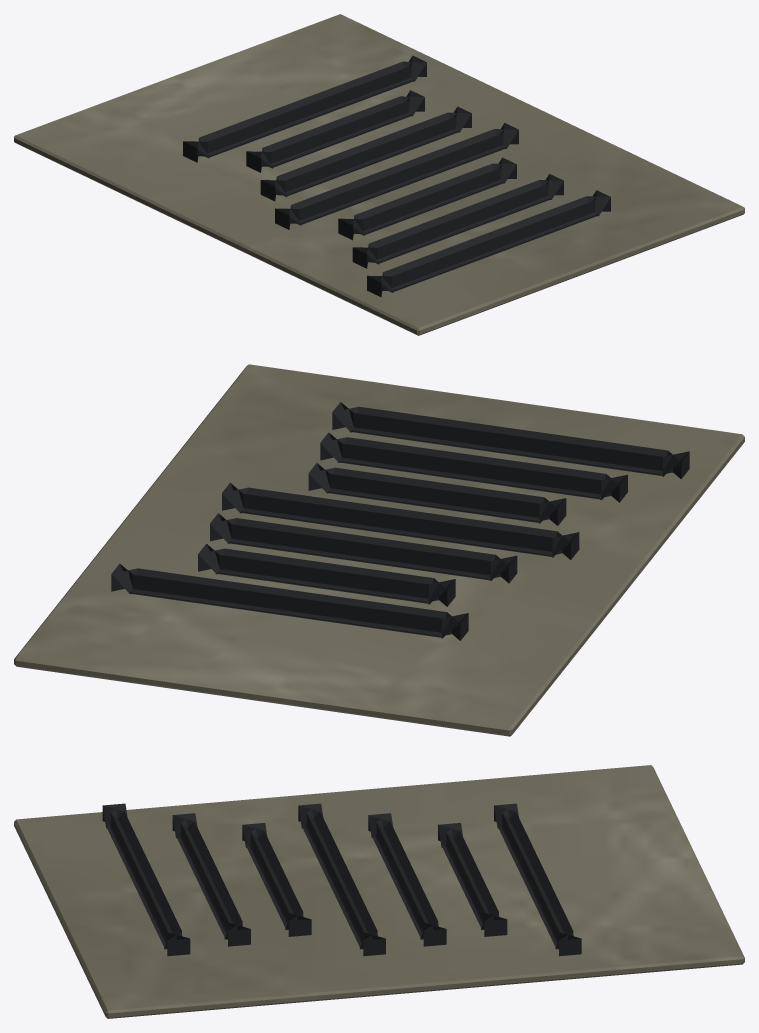
Rendered from item_note.glb.
3 renders of one model, top to bottom at view 1: azimuth 30°, elevation 25°; view 2: azimuth 150°, elevation 25°; view 3: azimuth 270°, elevation 25°, orthographic. The views are drawn at different scales.
Parts seen in each view (by area): view 1: body; view 2: body; view 3: body.
Part boxes in pixels (x1,y1,x2,y2): body: (14, 14, 744, 335); body: (14, 364, 744, 736); body: (14, 765, 744, 1018).
Bounding box in the file's own units: 0.2512 × 0.0145 × 0.3138.
Materials: 2 (1 with a texture image).
